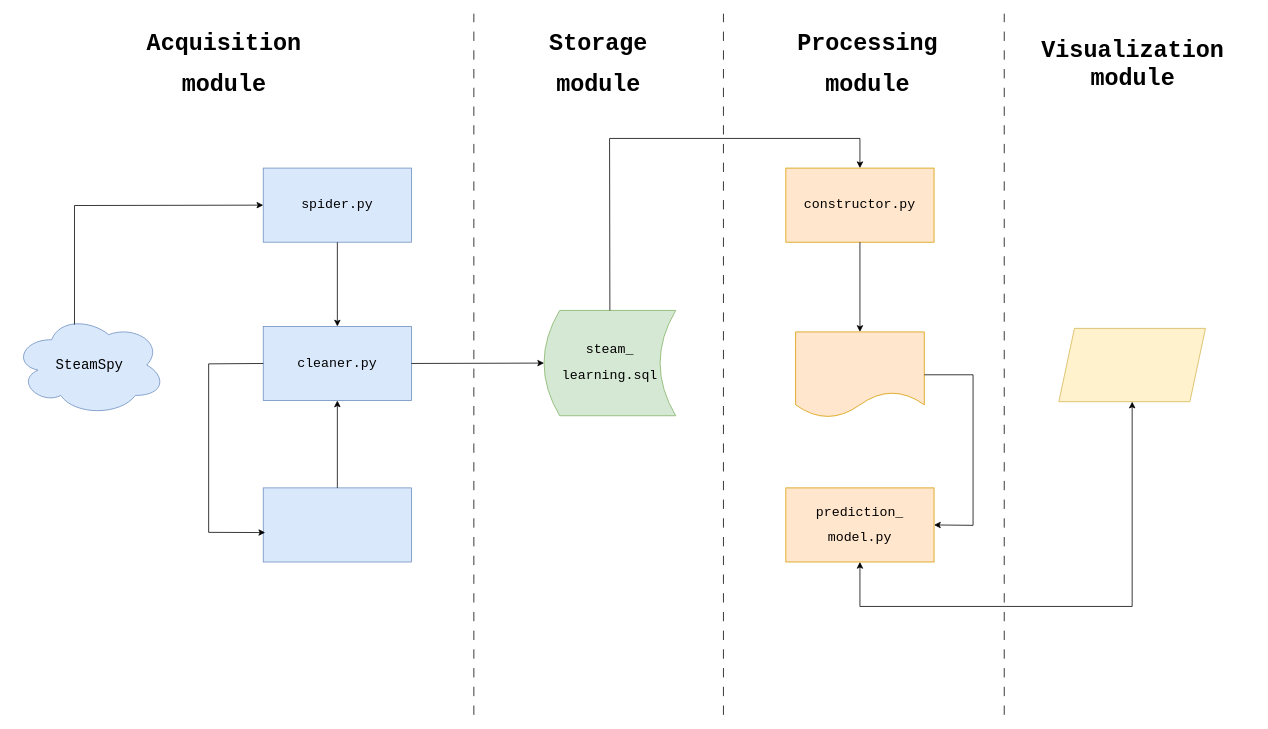
Image size: 1268x729. Some labels were removed from this diagram. The shapes that lost their labels are listed below. From the top down, each one's centre as x and y in pixels, then its label:
the point at 859,374: steam_data.csv
the point at 1131,365: Web page
the point at 336,524: review.py
